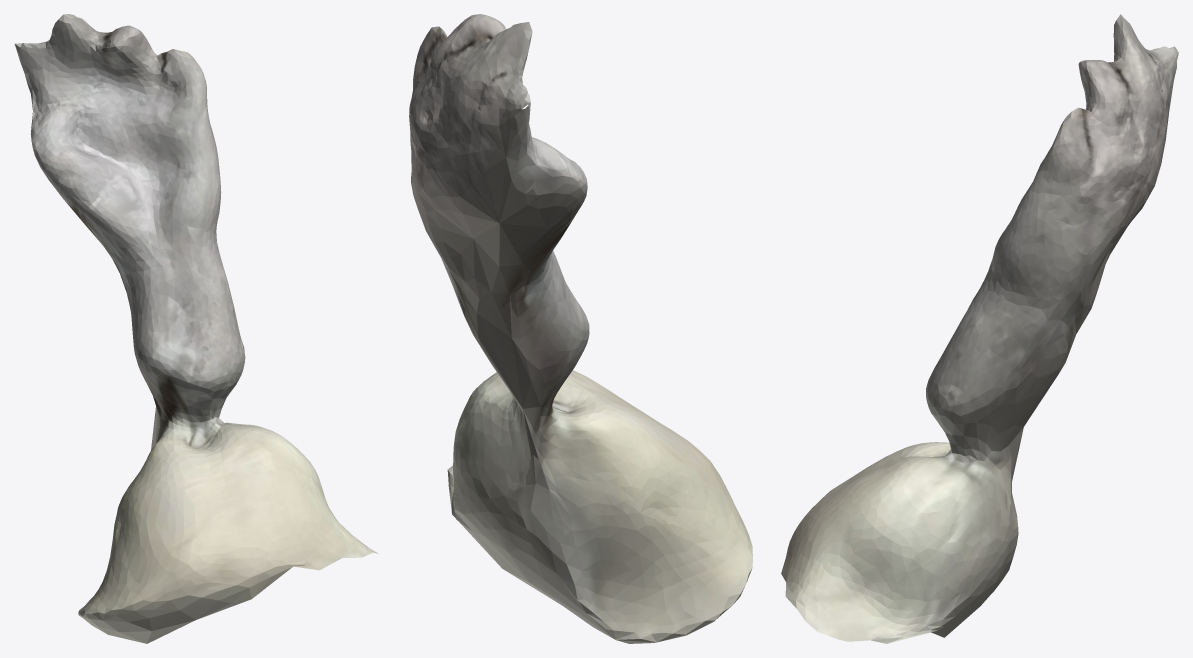
Rendered from Main3.glb.
3 renders of one model, left to right at view 1: azimuth 30°, elevation 25°; view 2: azimuth 150°, elevation 25°; view 3: azimuth 270°, elevation 25°, orthographic. The views are drawn at different scales.
Bounding box in the file's own units: 0.2071 × 0.4232 × 0.2561.
Materials: 1 (1 with a texture image).
